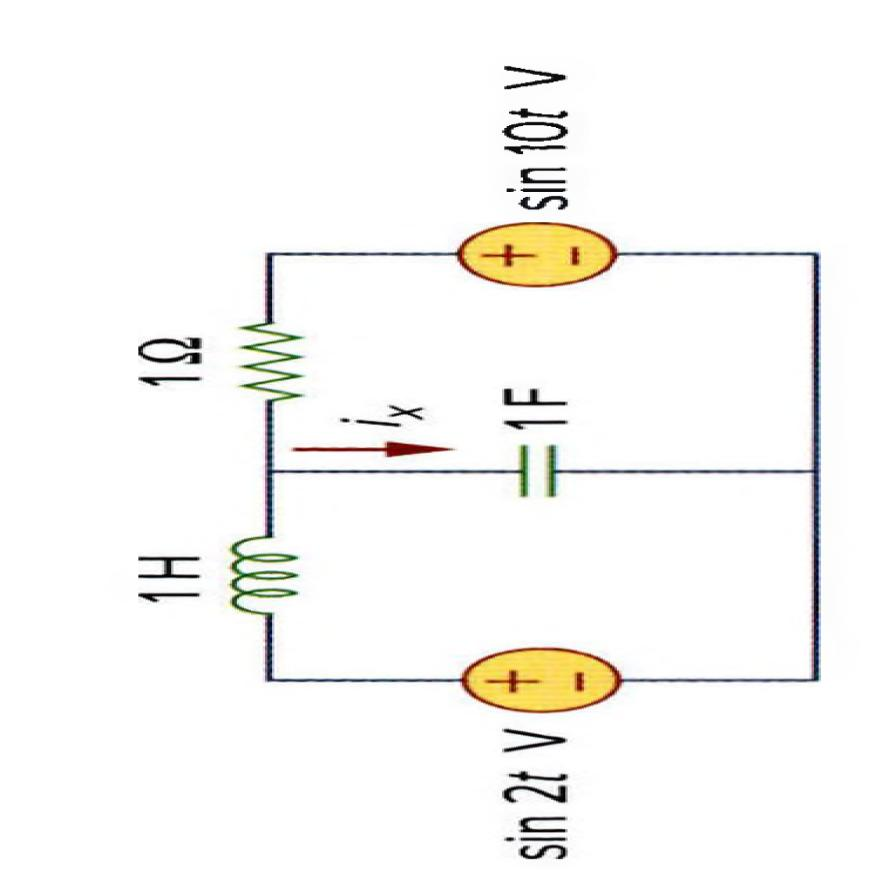C1: (472, 437, 593, 509)
L2: (196, 528, 316, 623)
V4: (449, 640, 634, 717), (446, 219, 612, 290)
